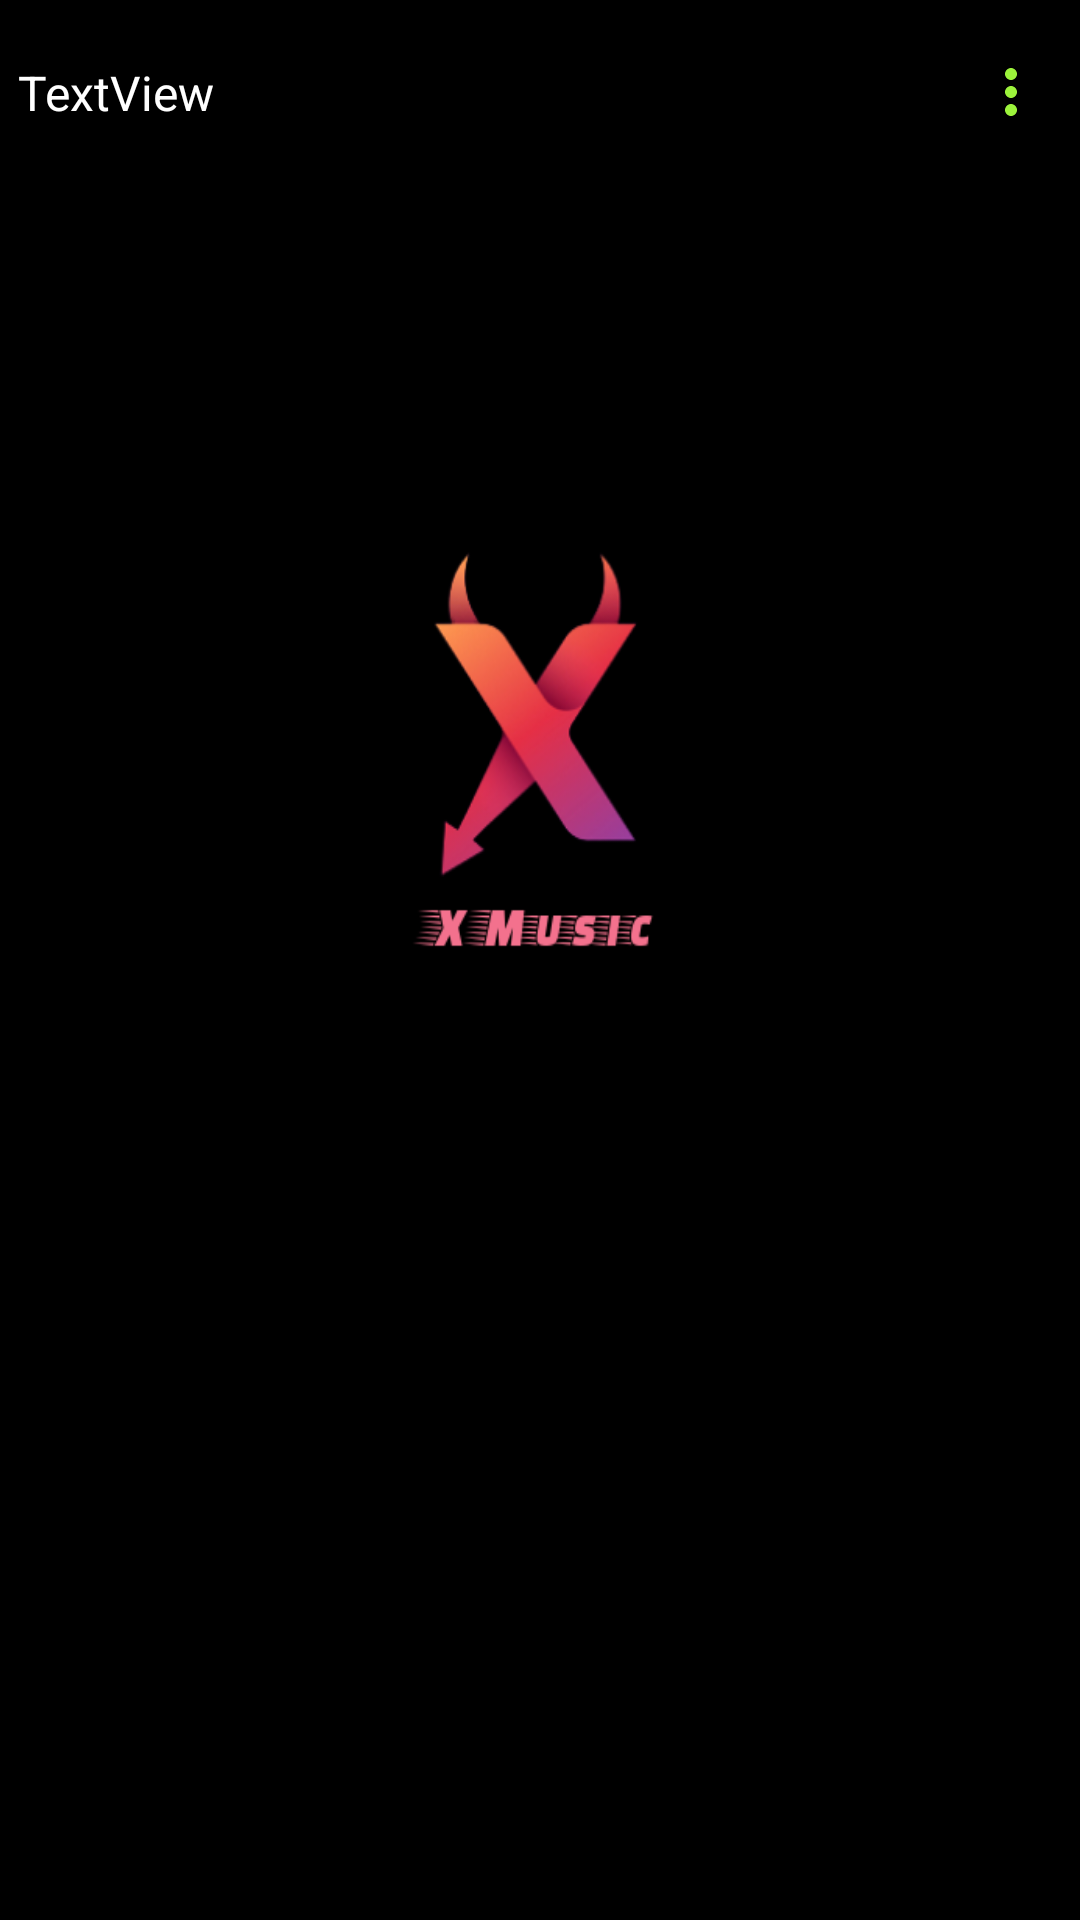

Icons on this 1080 x 1920 Android screen, each with the point to tap as (x=x, y=y):
more: (x=1011, y=92)
